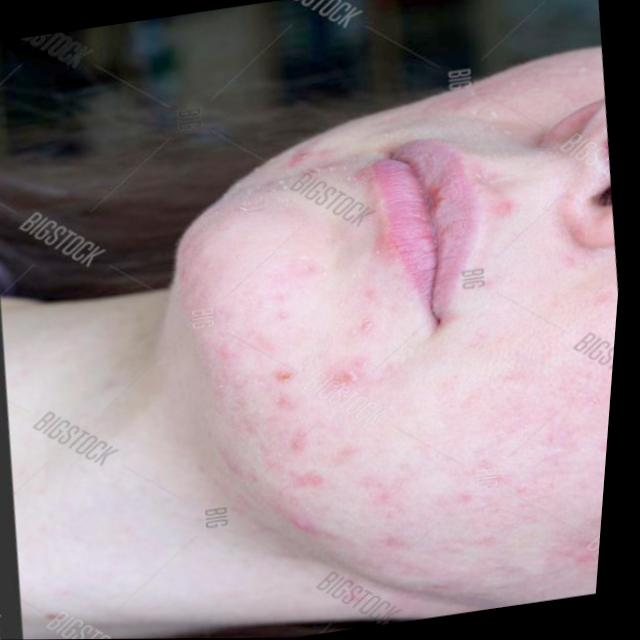papule: (270, 497, 343, 547), (384, 528, 435, 560), (351, 314, 385, 339), (370, 477, 397, 507), (275, 391, 311, 413), (337, 368, 368, 392), (298, 474, 336, 490), (274, 369, 307, 387), (295, 430, 317, 454), (275, 308, 304, 326), (364, 289, 390, 306), (342, 444, 368, 460), (559, 254, 583, 271), (317, 147, 344, 162), (294, 150, 319, 166), (466, 492, 490, 506), (487, 279, 501, 296)
pustule: (495, 196, 520, 222)
